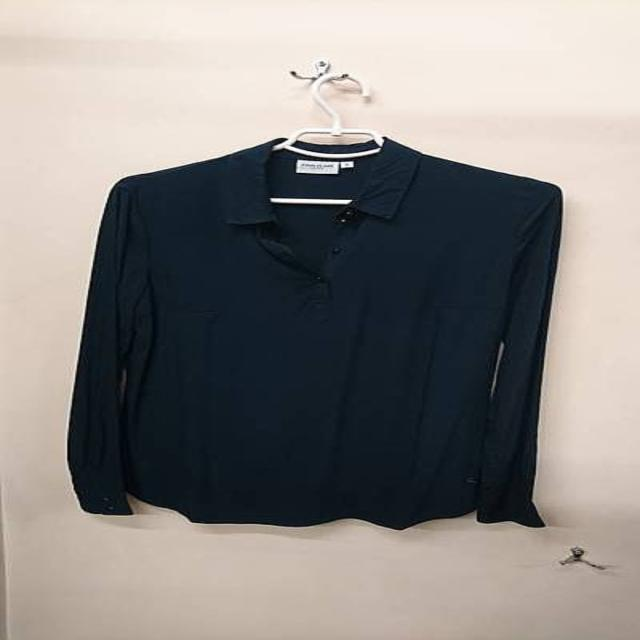SHIRT: (50, 123, 614, 540)
